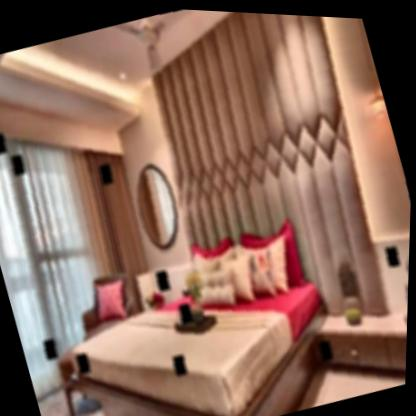Bed: (61, 207, 354, 416)
Nightstand: (317, 278, 410, 393)
